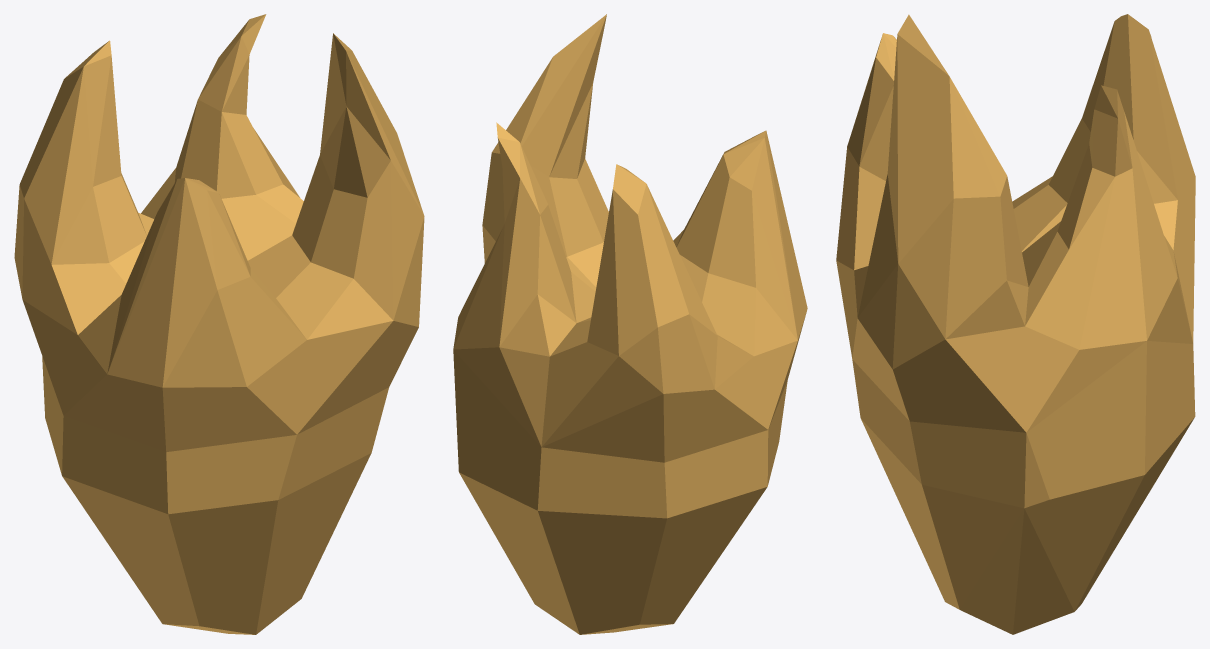
Rendered from 8kb5fydmHf.glb.
3 views of the same model, side by side, from view 1: azimuth 30°, elevation 25°; view 2: azimuth 150°, elevation 25°; view 3: azimuth 270°, elevation 25° (orthographic). The views are drawn at different scales.
Visible parts, largest first — view 1: Fire_Cube.001; view 2: Fire_Cube.001; view 3: Fire_Cube.001.
Part boxes in pixels (left/top/right/bottom): Fire_Cube.001: left=14, top=14, right=424, bottom=634; Fire_Cube.001: left=453, top=14, right=807, bottom=634; Fire_Cube.001: left=836, top=14, right=1195, bottom=634.
Size of the model in its own units: 0.6166 by 1.12 by 0.5704.
